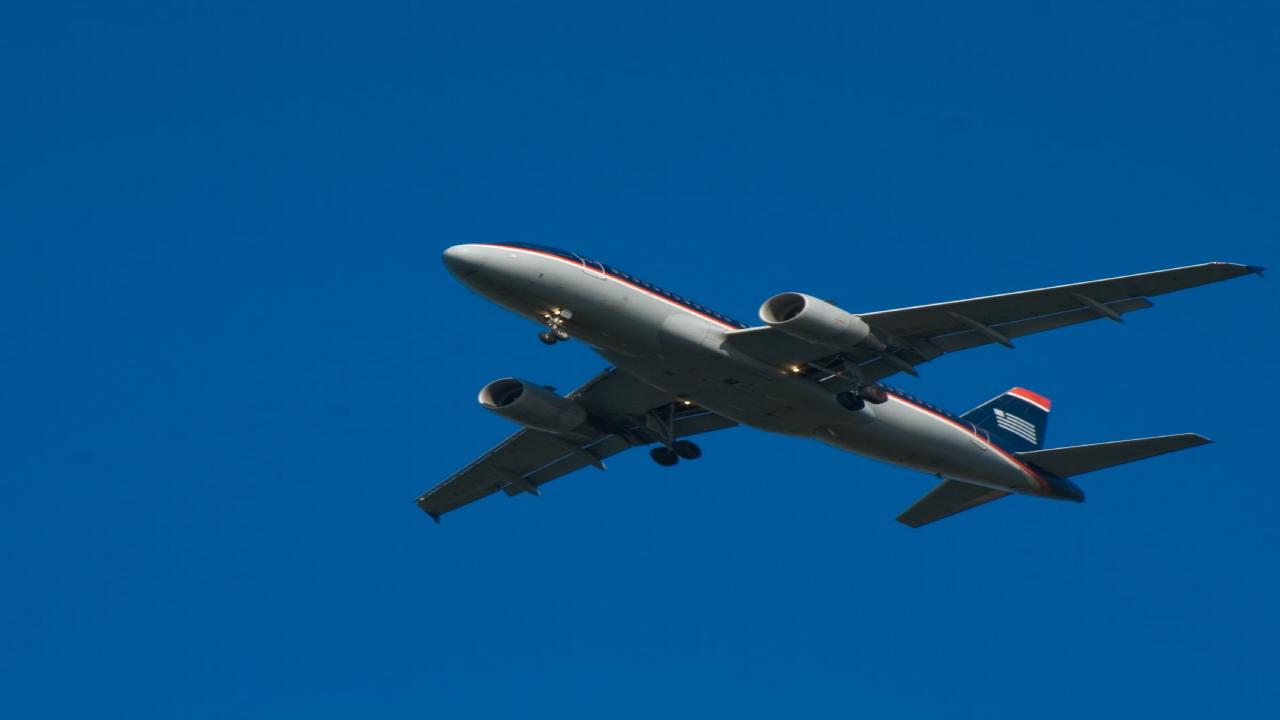Airplane: (392, 228, 1280, 540)
